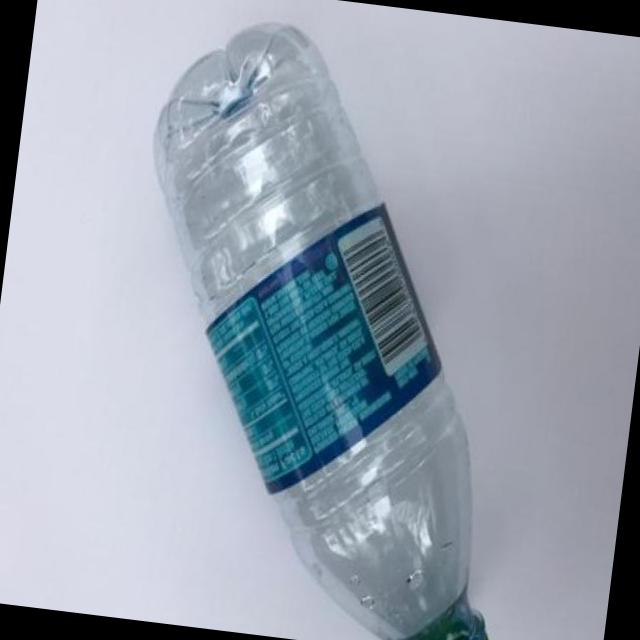plastic_bottle: (93, 8, 577, 640)
